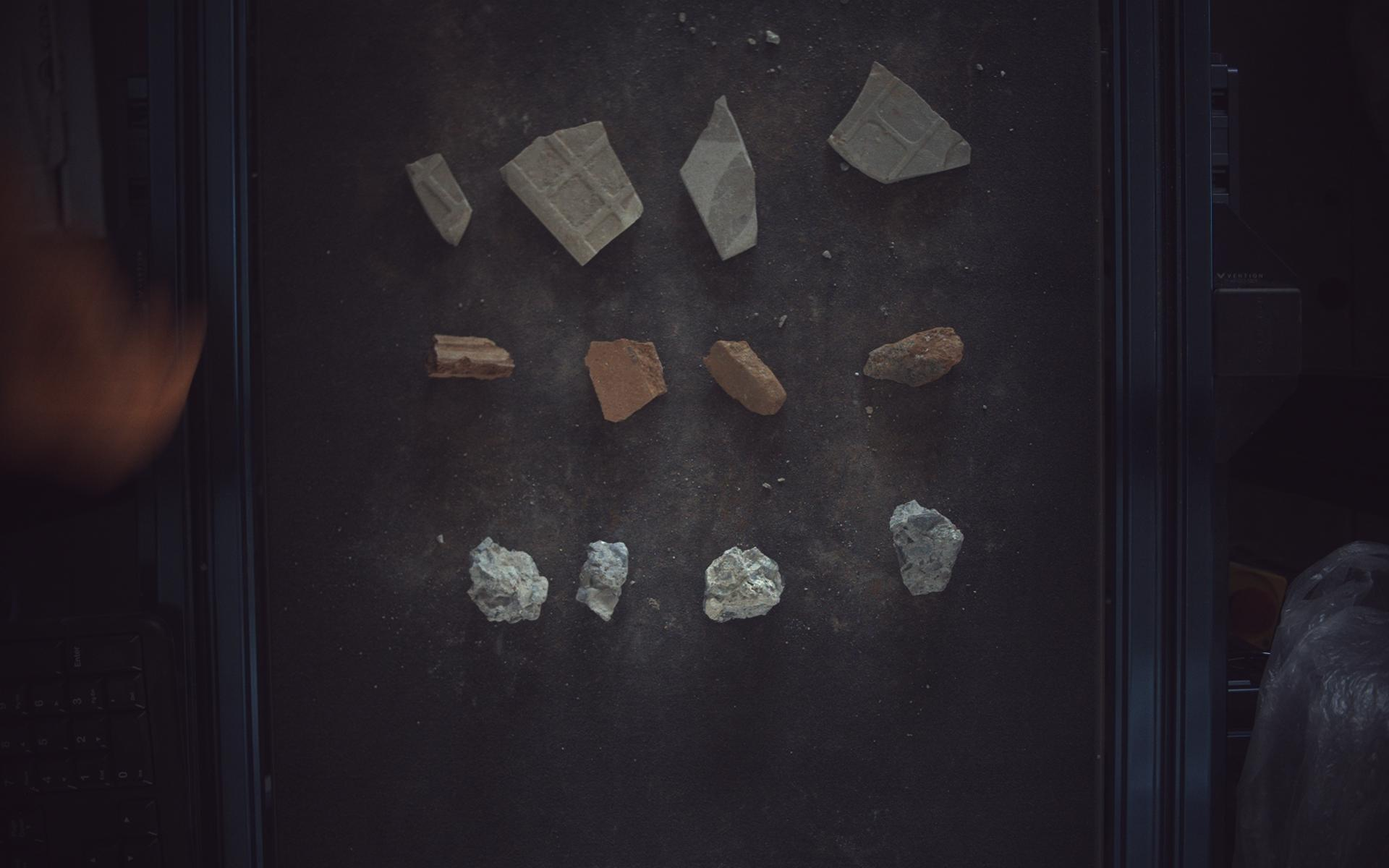brick: (585, 338, 668, 422), (704, 341, 788, 415), (865, 327, 965, 387), (425, 334, 514, 379)
concrete: (891, 501, 966, 596), (468, 538, 549, 624), (705, 548, 785, 623), (577, 541, 629, 621)
tile: (501, 120, 644, 265), (830, 60, 973, 183), (681, 94, 759, 260), (406, 153, 472, 244)
